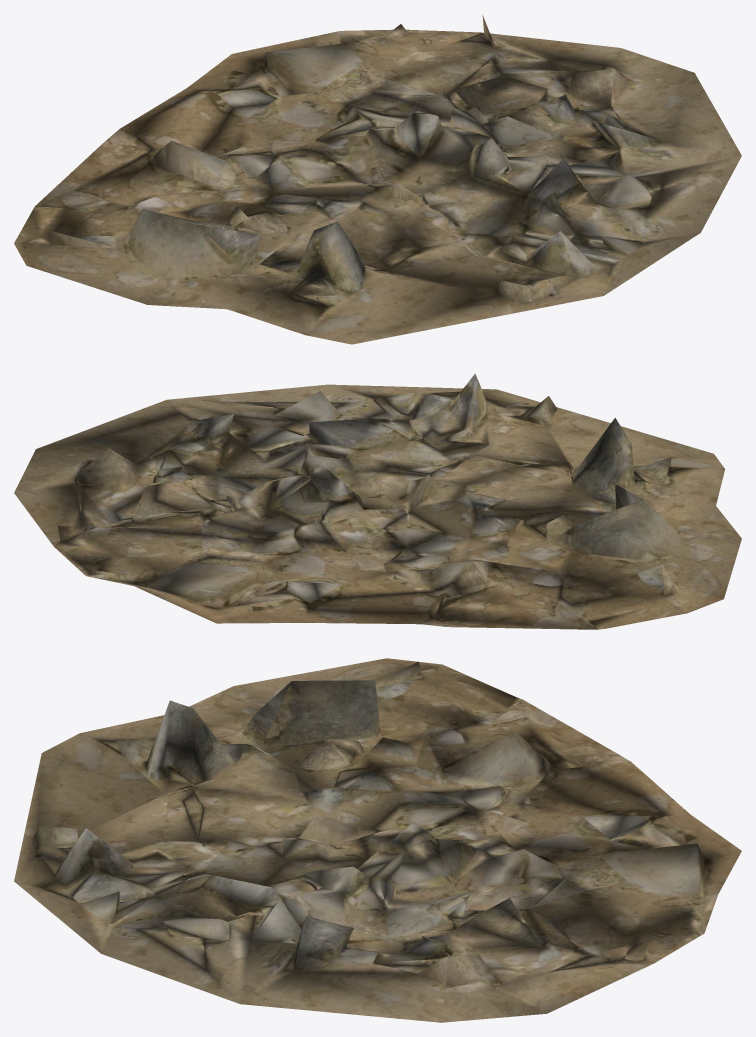
The model's file is pebbles.glb.
3 renders of one model, top to bottom at view 1: azimuth 30°, elevation 25°; view 2: azimuth 150°, elevation 25°; view 3: azimuth 270°, elevation 25°, orthographic. The views are drawn at different scales.
Visible parts, largest first — view 1: sand_rocks_small_01_LOD0; view 2: sand_rocks_small_01_LOD0; view 3: sand_rocks_small_01_LOD0.
Part boxes in pixels (left/top/right/bottom): sand_rocks_small_01_LOD0: left=14, top=15, right=741, bottom=344; sand_rocks_small_01_LOD0: left=14, top=373, right=741, bottom=629; sand_rocks_small_01_LOD0: left=14, top=658, right=741, bottom=1022.
Bounding box in the file's own units: 4.63 × 0.4478 × 3.84.
Materials: 1 (1 with a texture image).
